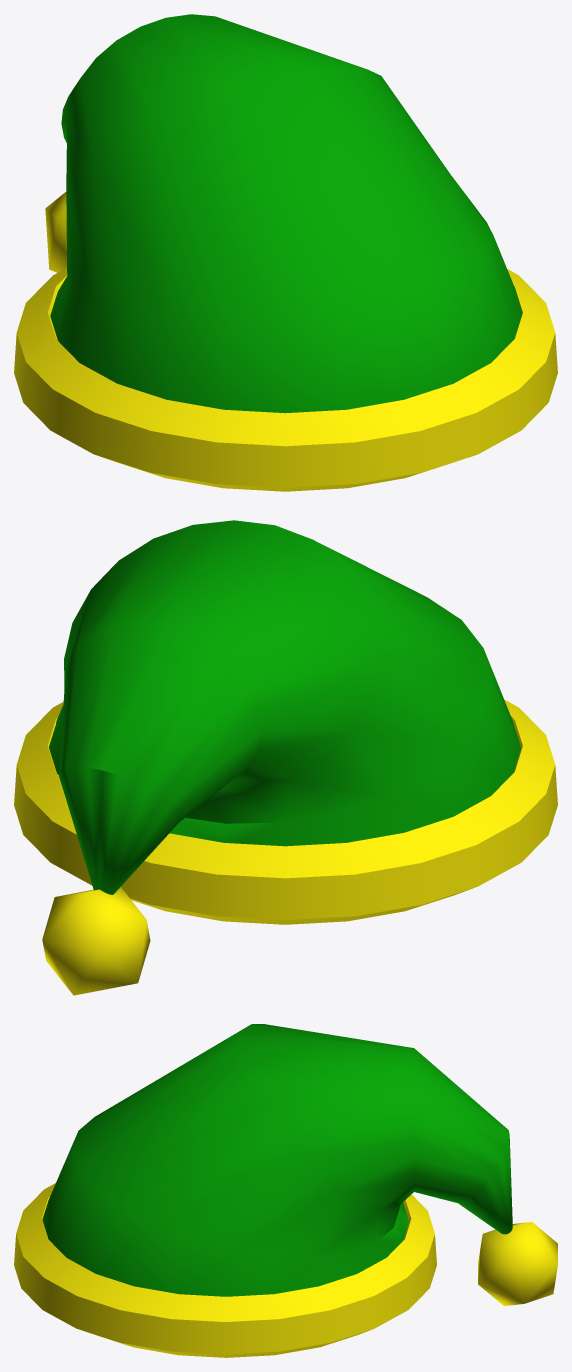
Rendered from Hat.fbx.
The picture shows the model from 3 angles, top to bottom: view 1: azimuth 30°, elevation 25°; view 2: azimuth 150°, elevation 25°; view 3: azimuth 270°, elevation 25°; orthographic projection. The views are drawn at different scales.
Visible parts, largest first — view 1: theresonlyone; view 2: theresonlyone; view 3: theresonlyone.
Part boxes in pixels (bbox=[...]): theresonlyone: bbox=[14, 14, 557, 491]; theresonlyone: bbox=[14, 520, 557, 995]; theresonlyone: bbox=[14, 1024, 557, 1357].
Size of the model in its own units: 78.36 by 53.85 by 101.
1 material, 1 textured.
